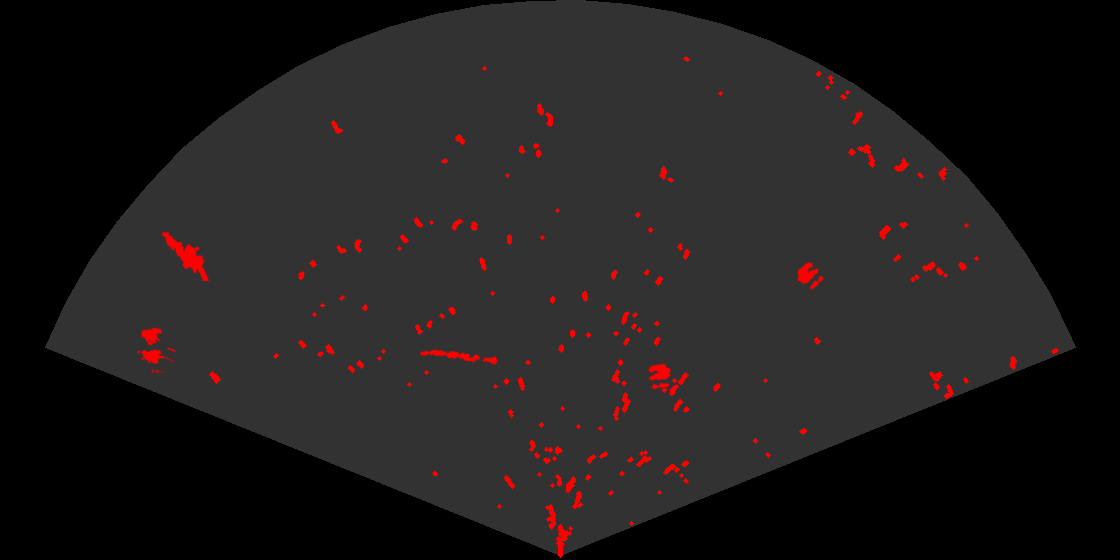ball: (796, 261, 825, 291), (646, 362, 672, 391)
cage: (135, 326, 175, 373)
chain: (418, 348, 501, 366)
frogman: (160, 229, 211, 281)
